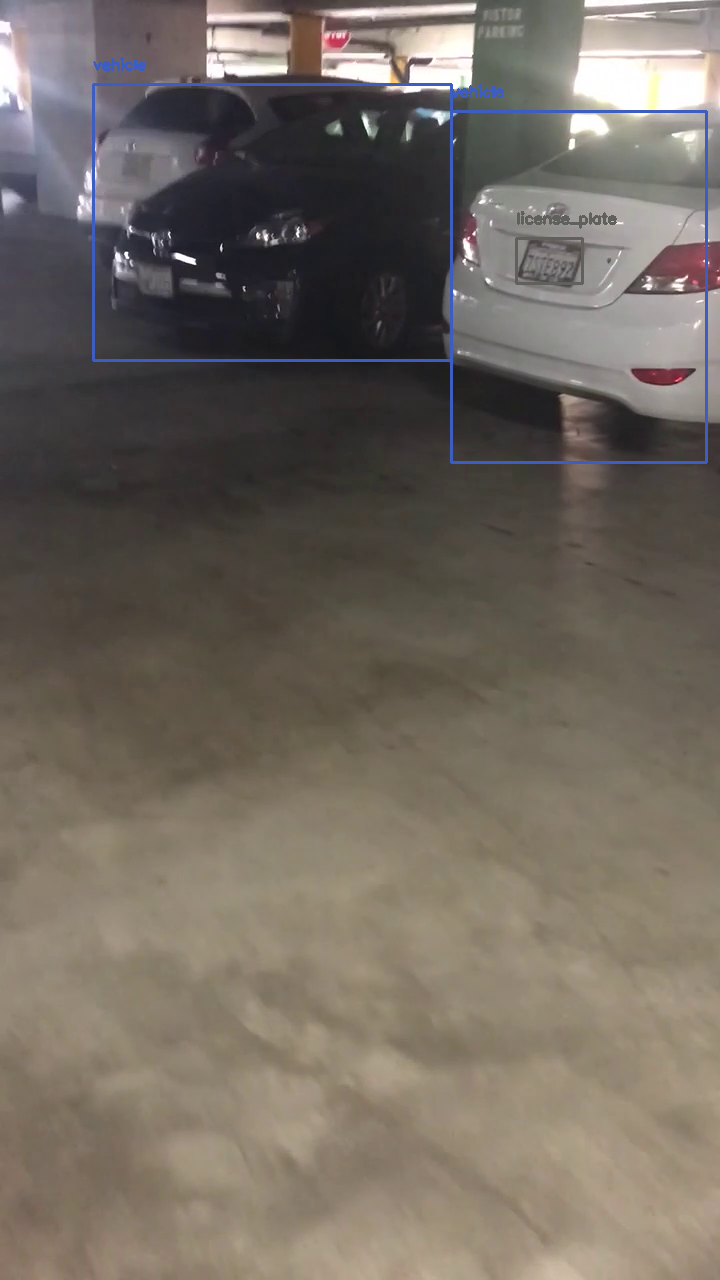license_plate: (516, 238, 582, 283)
vehicle: (93, 84, 451, 360), (451, 111, 706, 462)
